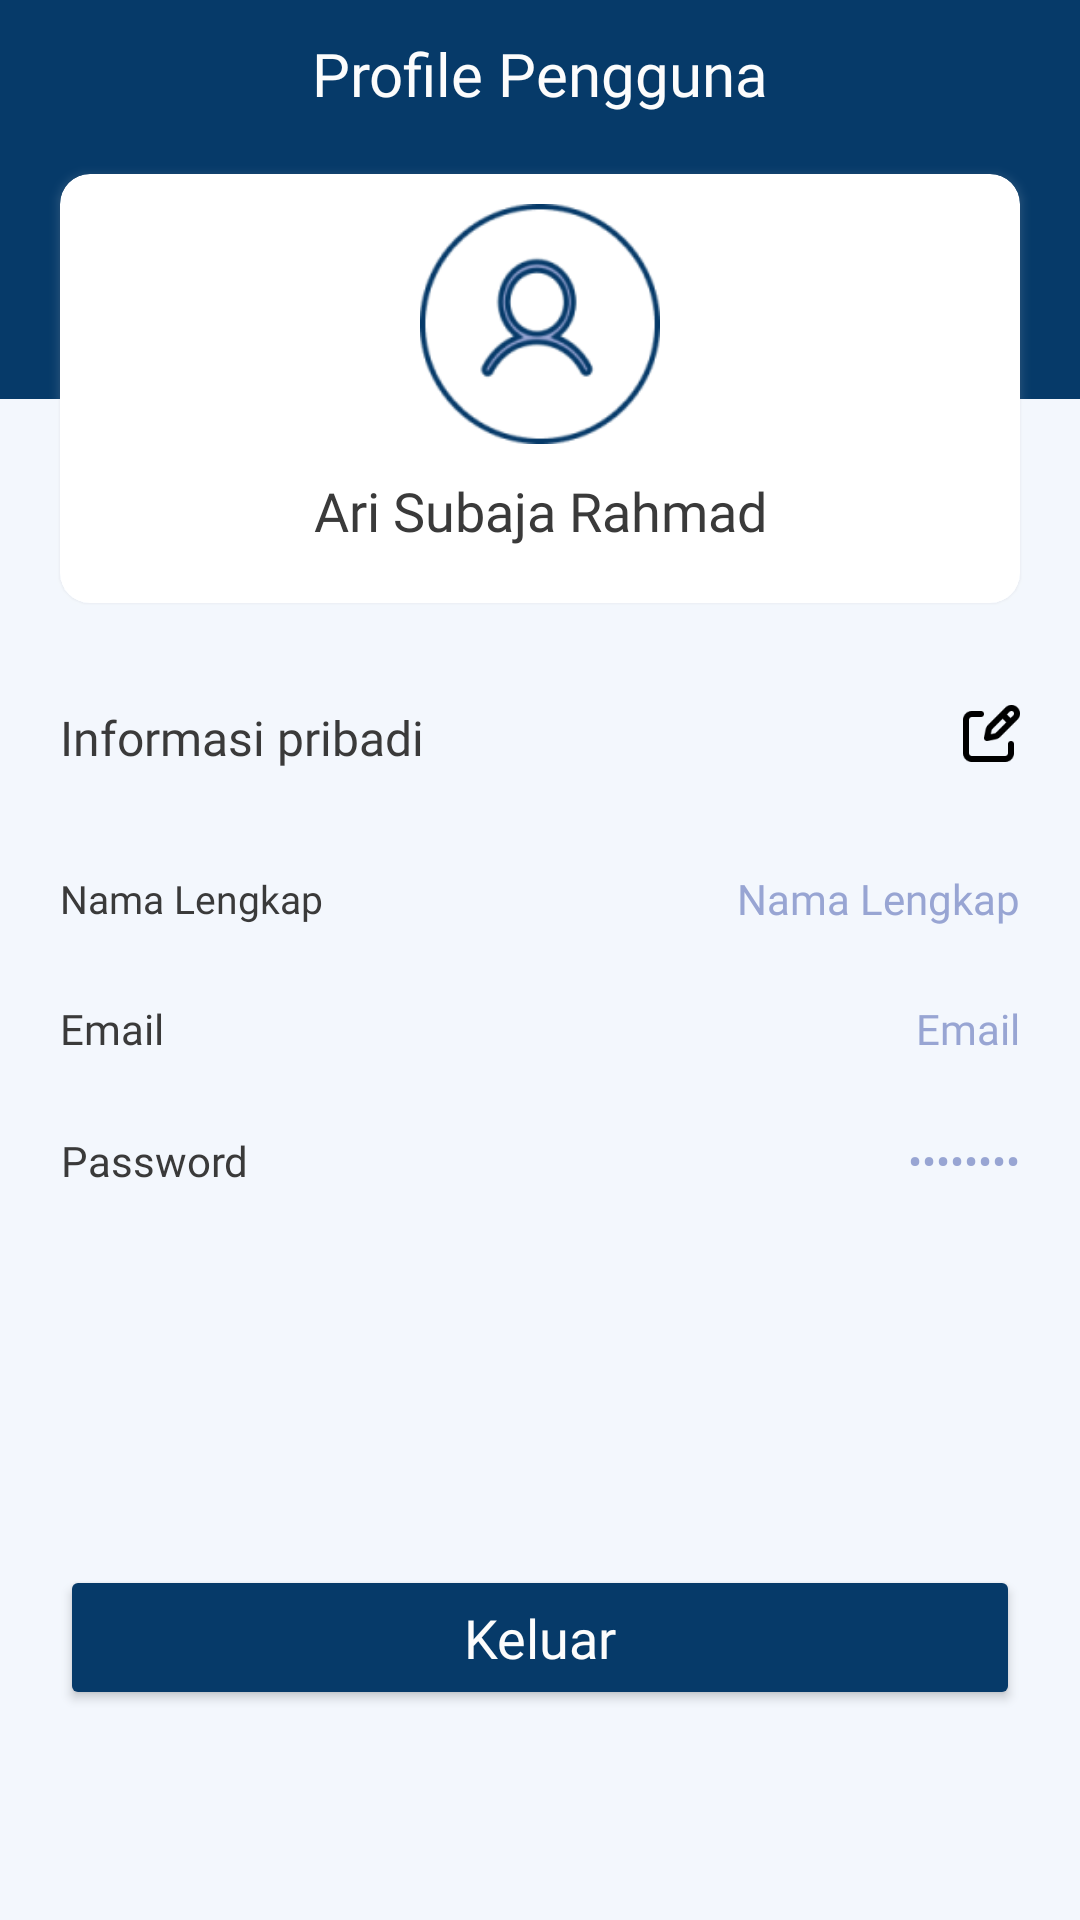

Icons on this 1080 x 1920 Android screen, each with its box as [x1=x1, y1=y1, x2=x2, y2=y2]:
akun: [x1=420, y1=204, x2=660, y2=444]
edit informasi: [x1=963, y1=705, x2=1020, y2=762]
